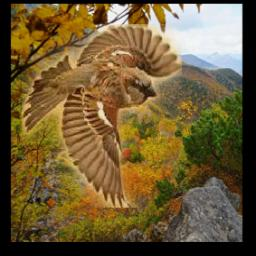Sparrow: (23, 25, 183, 209)
